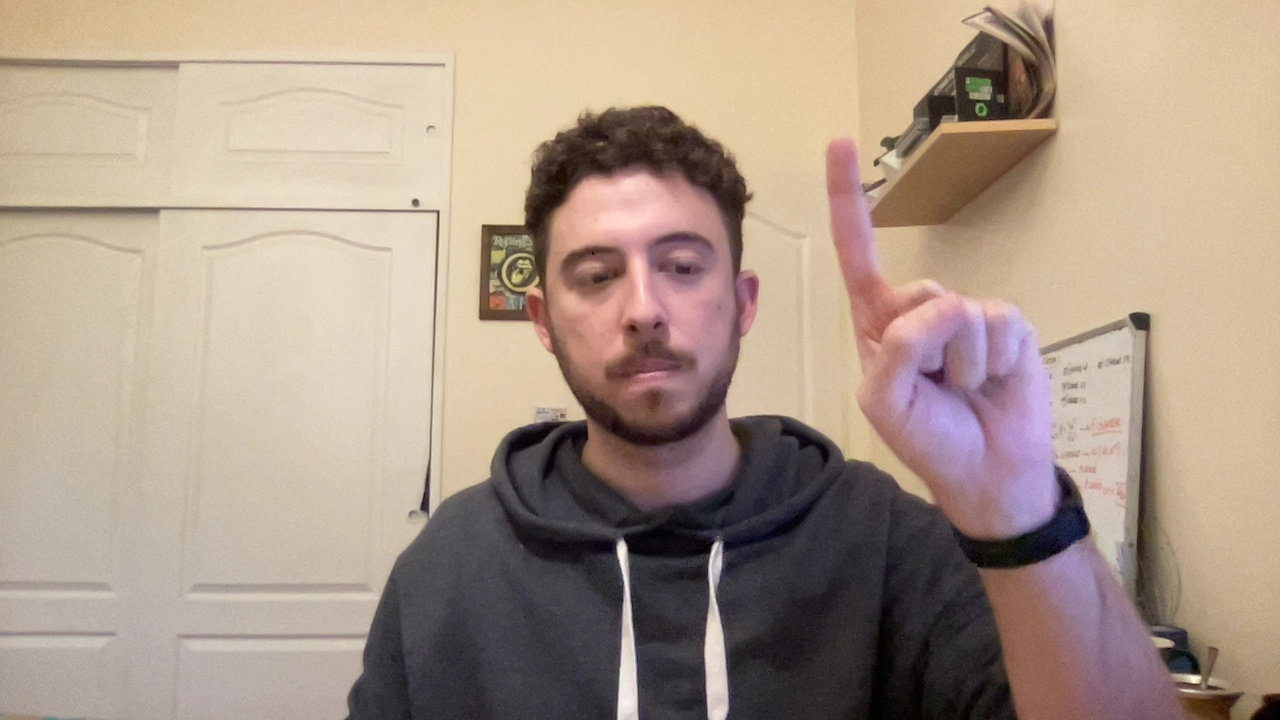indice: (769, 130, 1124, 524)
